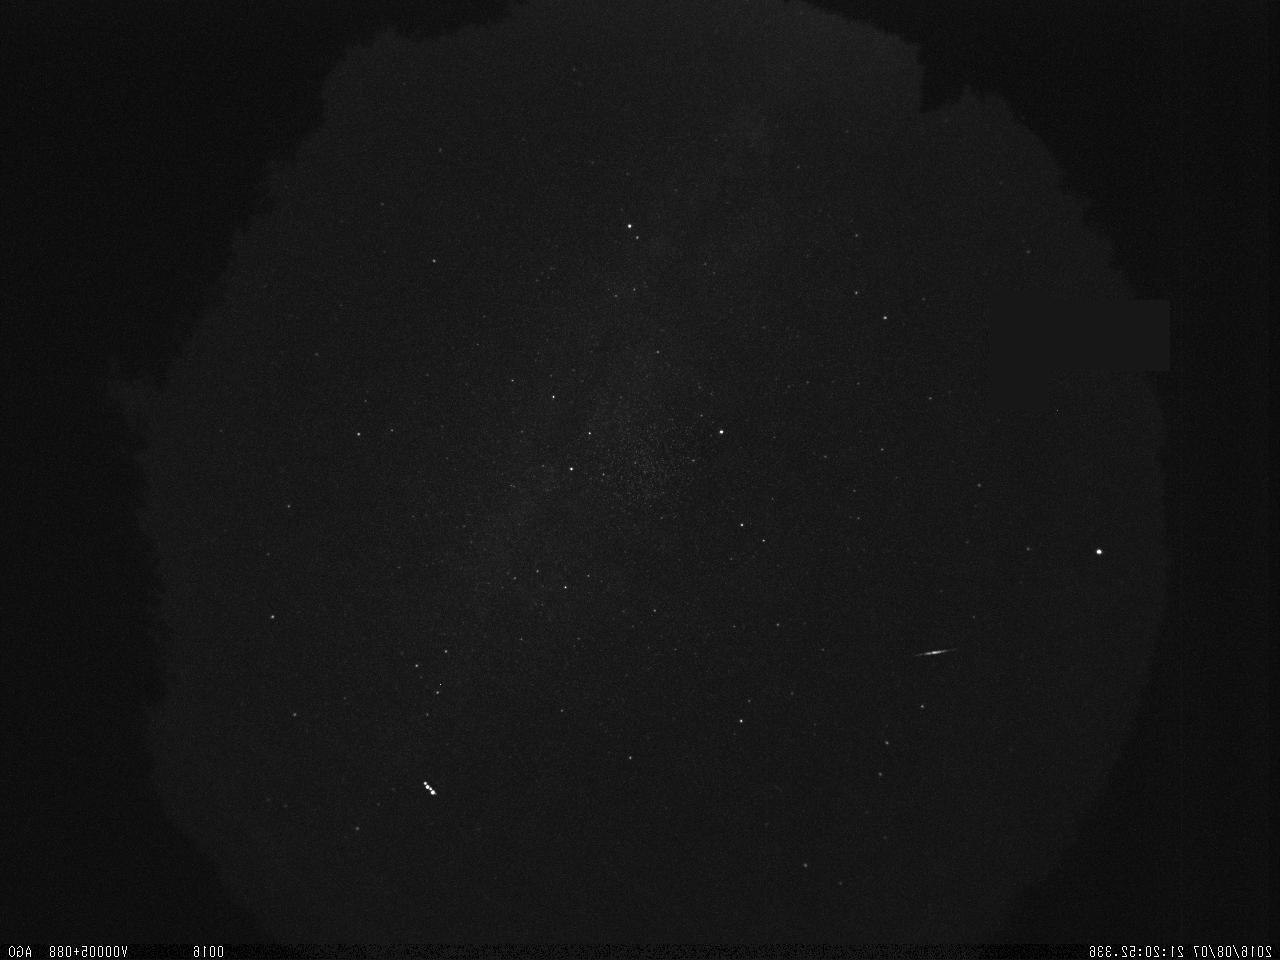meteor: (904, 638, 965, 668)
satelite: (413, 776, 445, 800)
